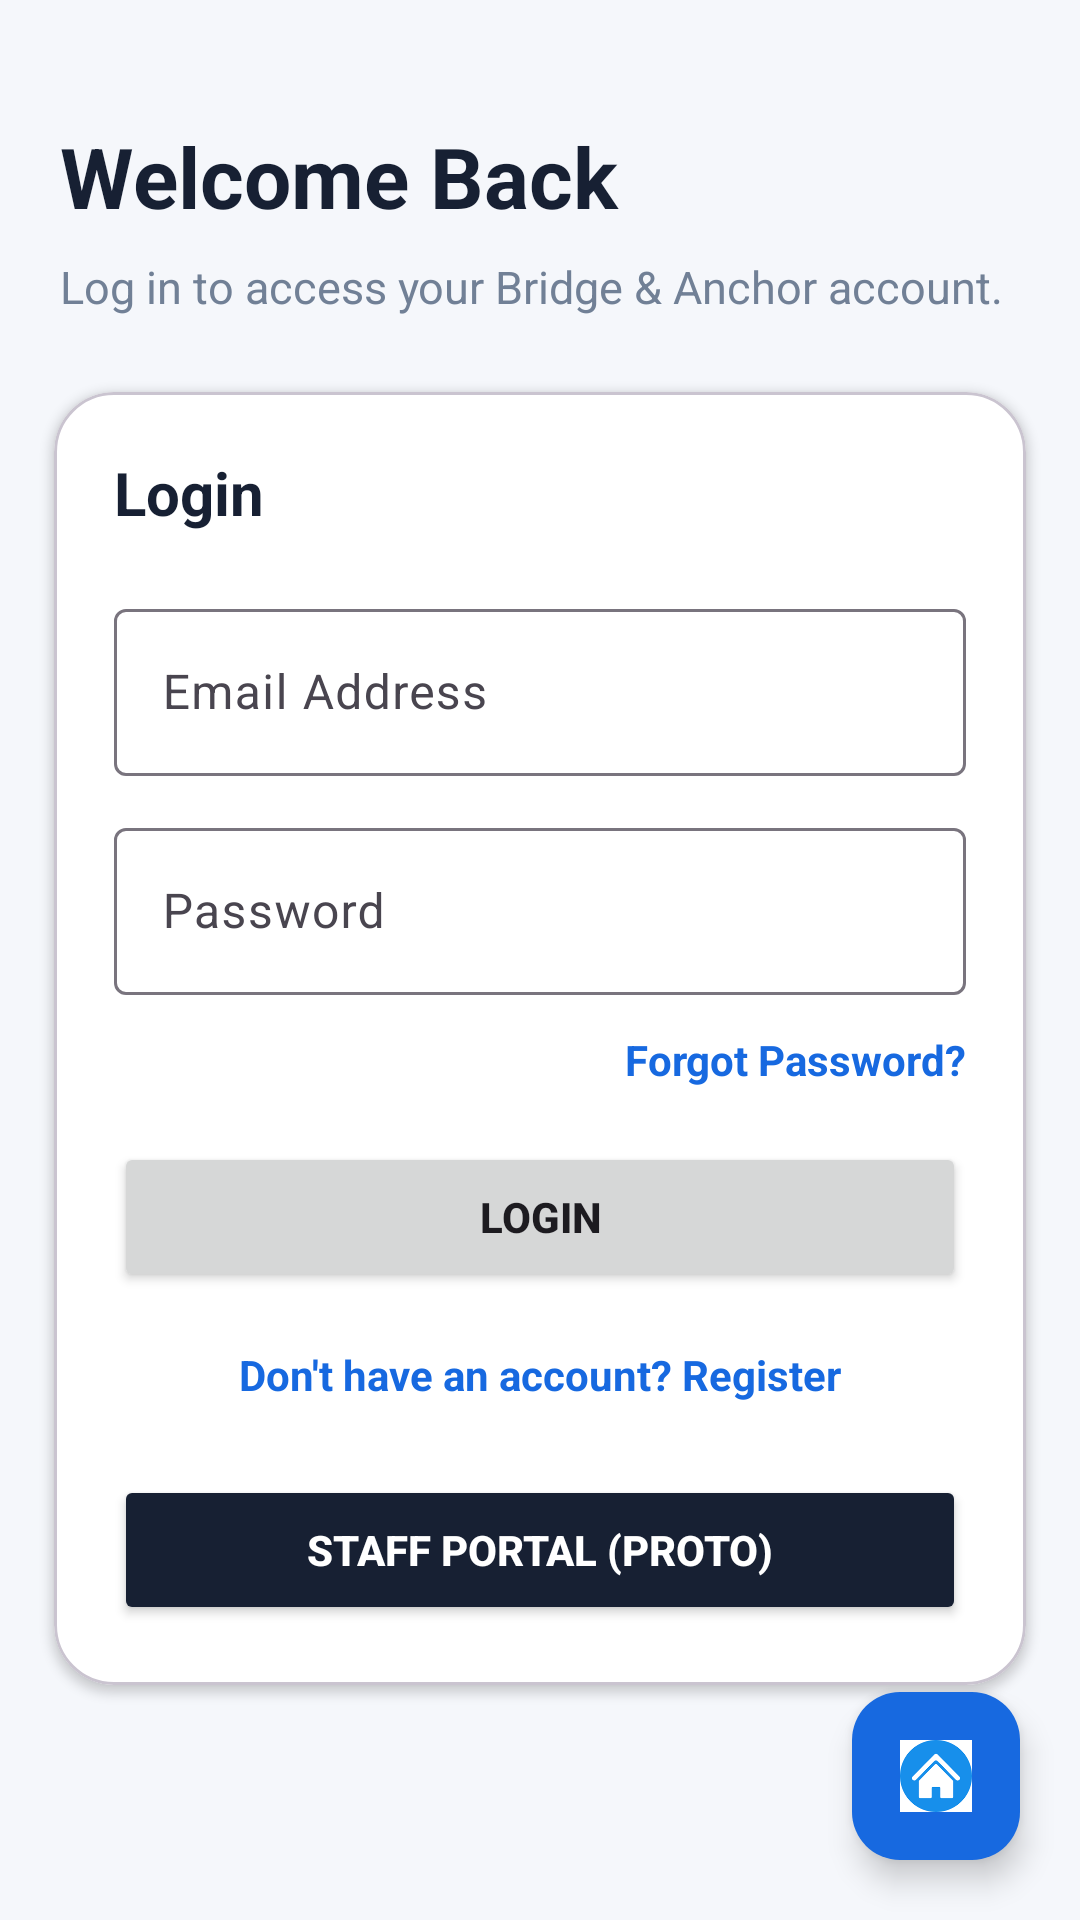

Screen size 1080 × 1920. Icon name, then its box in pixels as (x1, y1, x2, y2):
Return to Home Page: (852, 1692, 1020, 1860)
